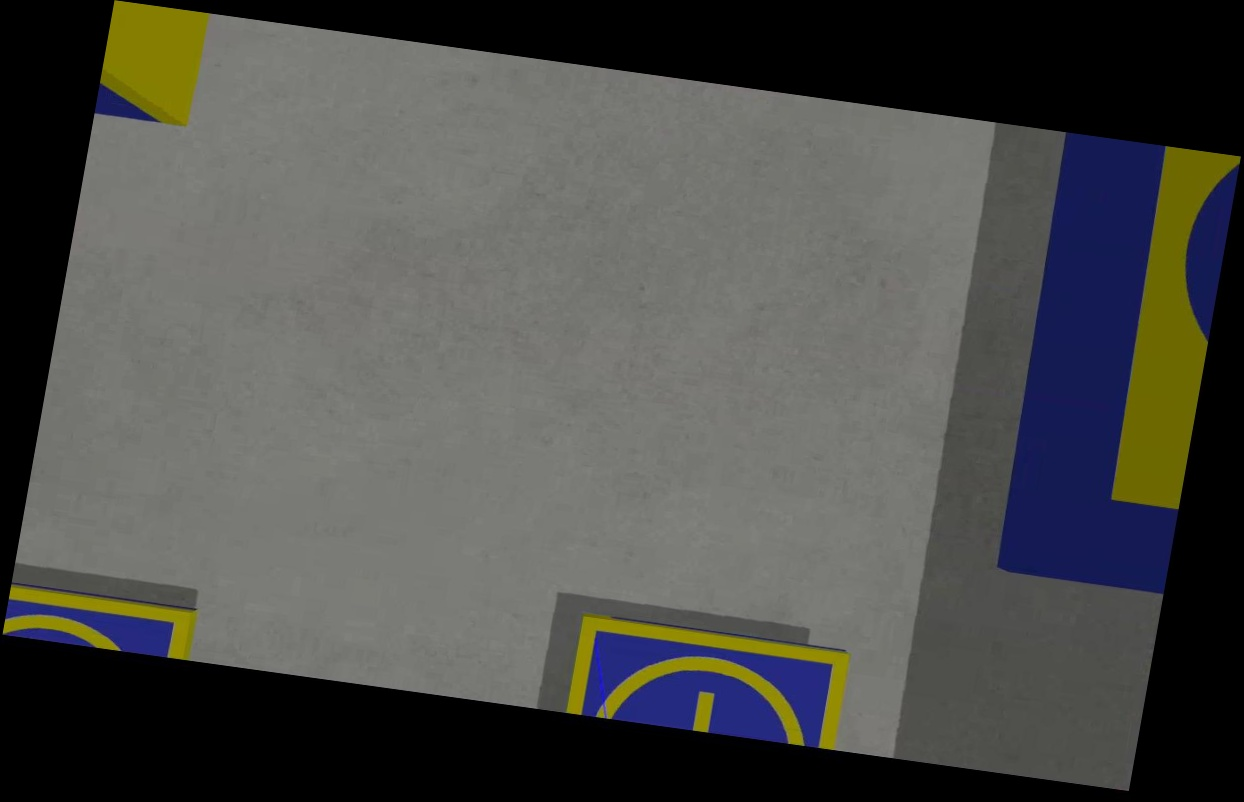large_base: (988, 134, 1239, 591)
small_base: (562, 611, 852, 750), (2, 581, 201, 661)
